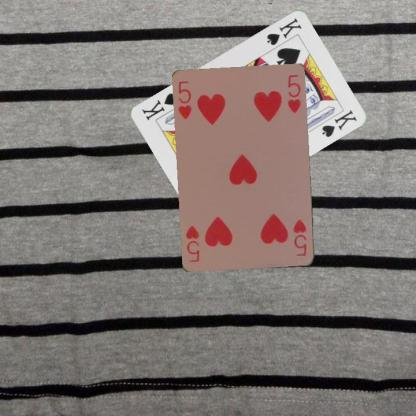5h: (176, 78, 193, 122), (291, 216, 308, 258)
Ks: (264, 15, 303, 46)
